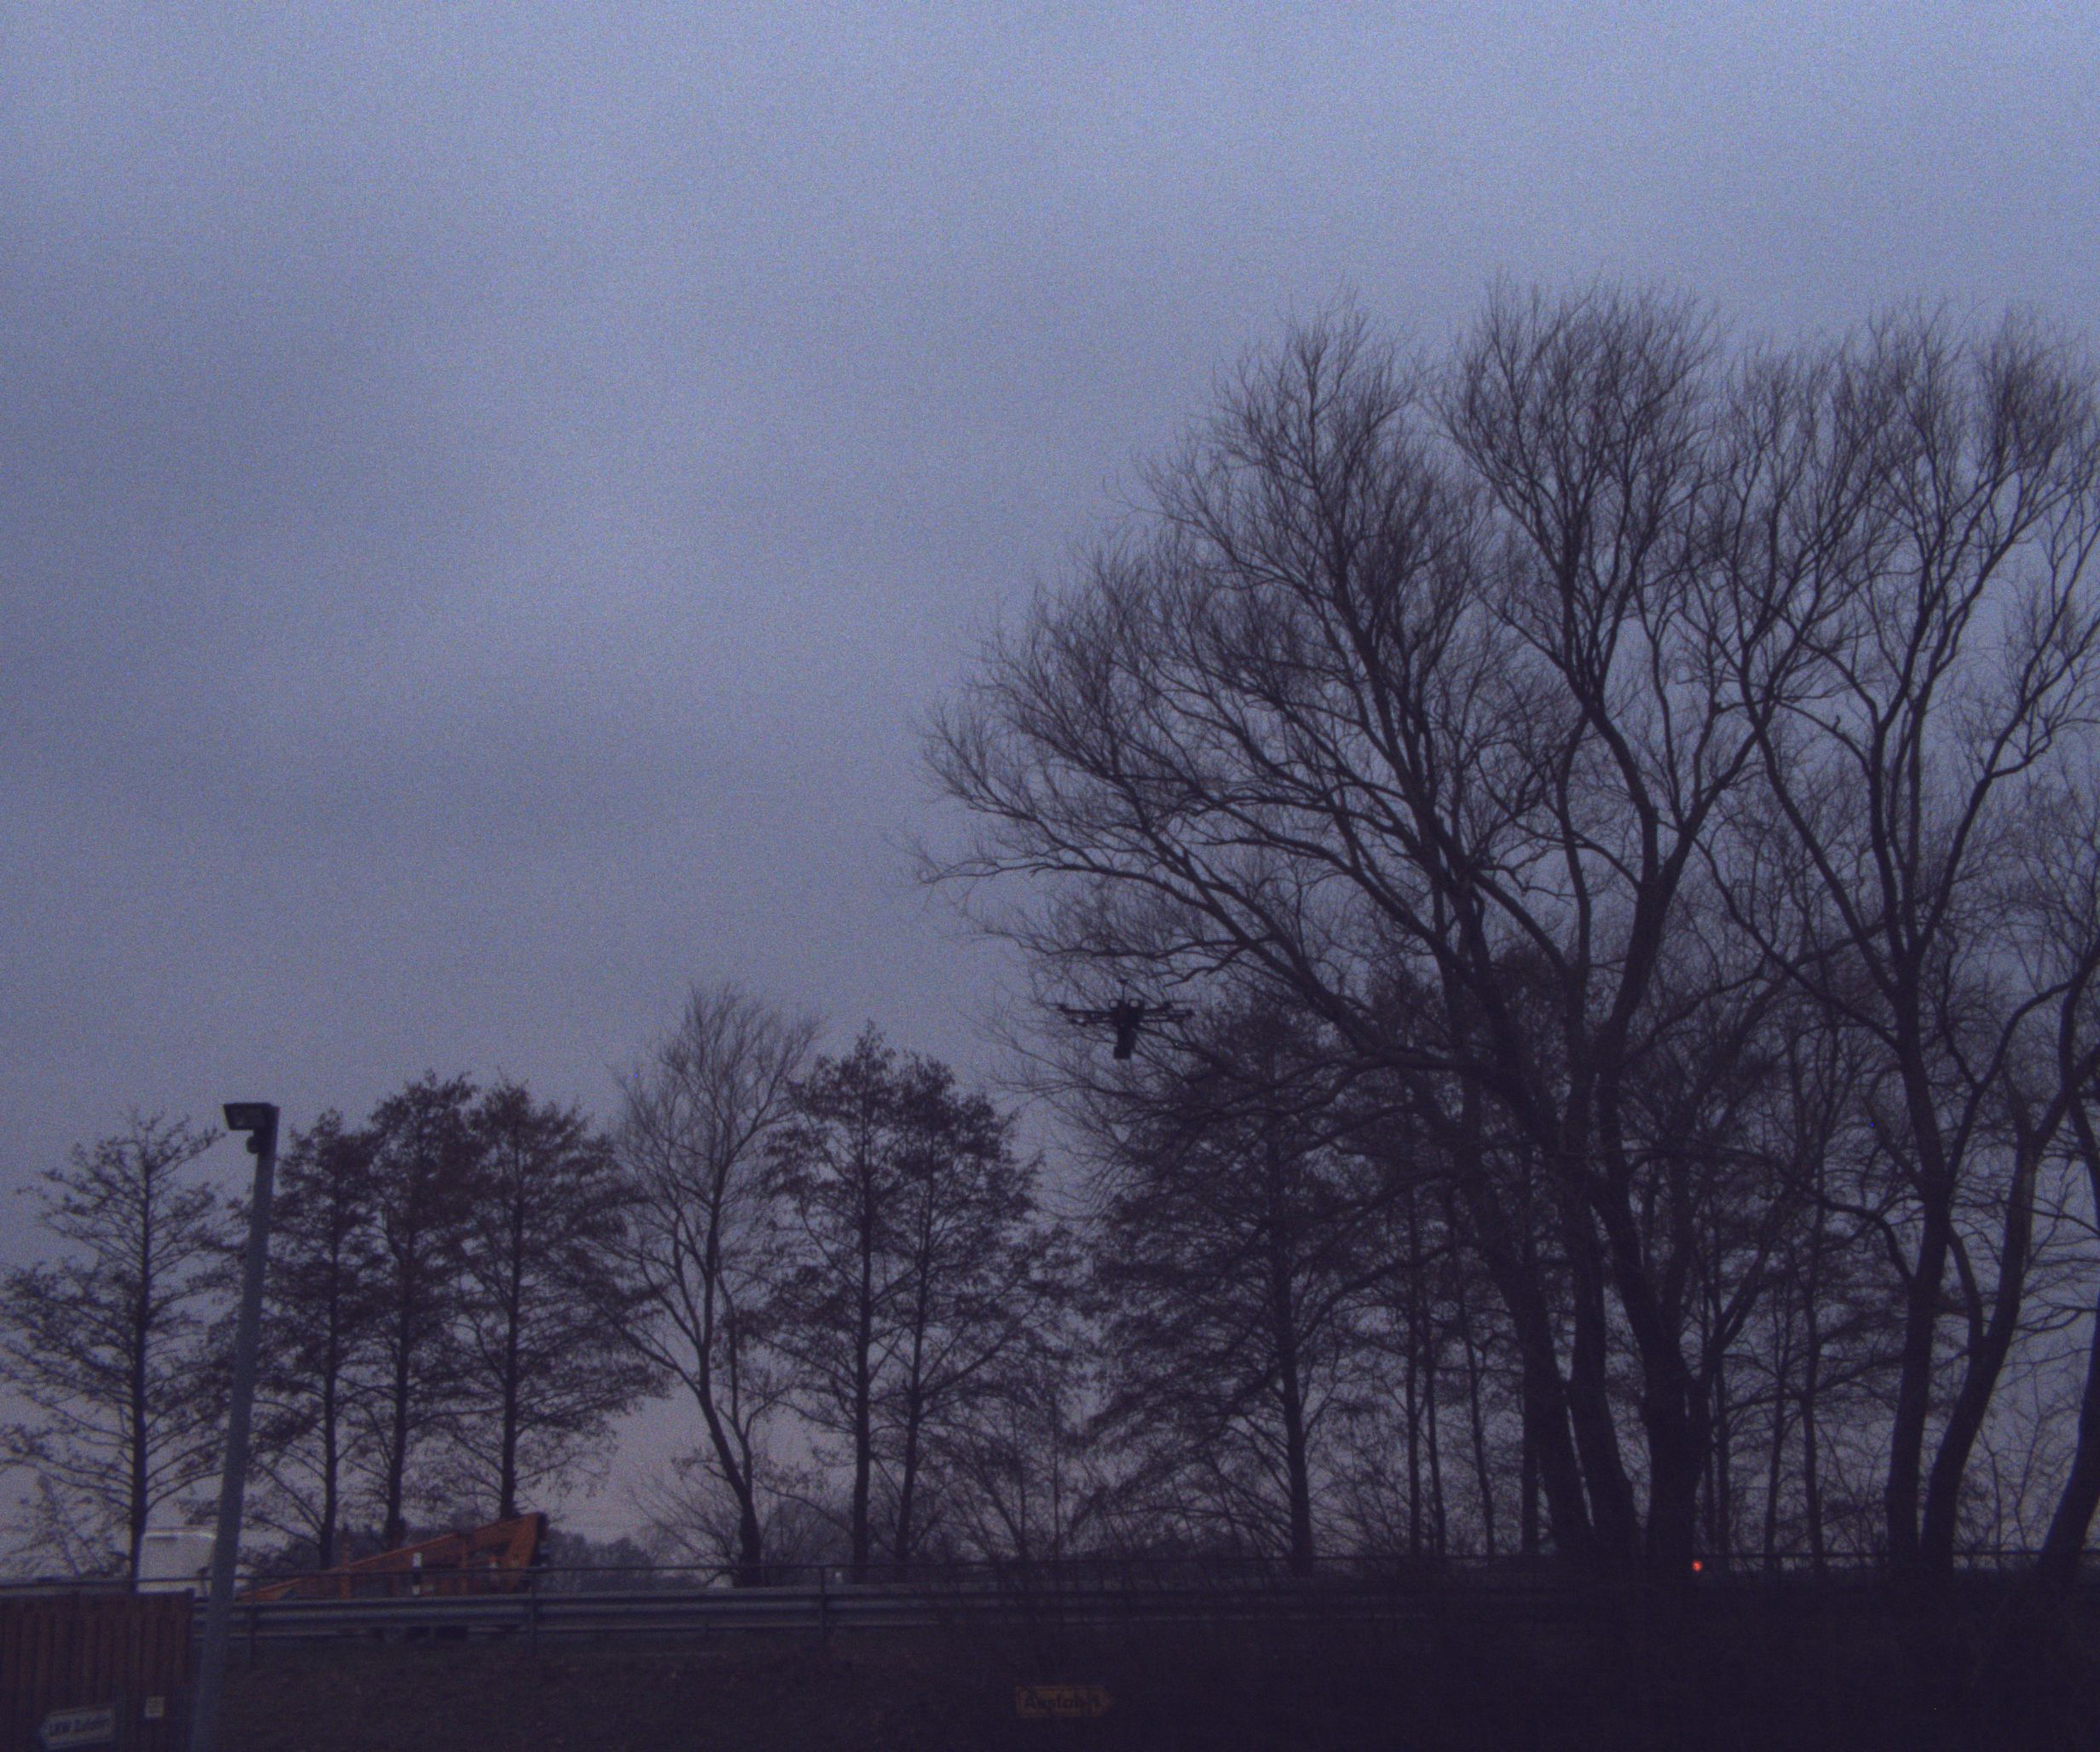Drohne: (1012, 954, 1231, 1107)
